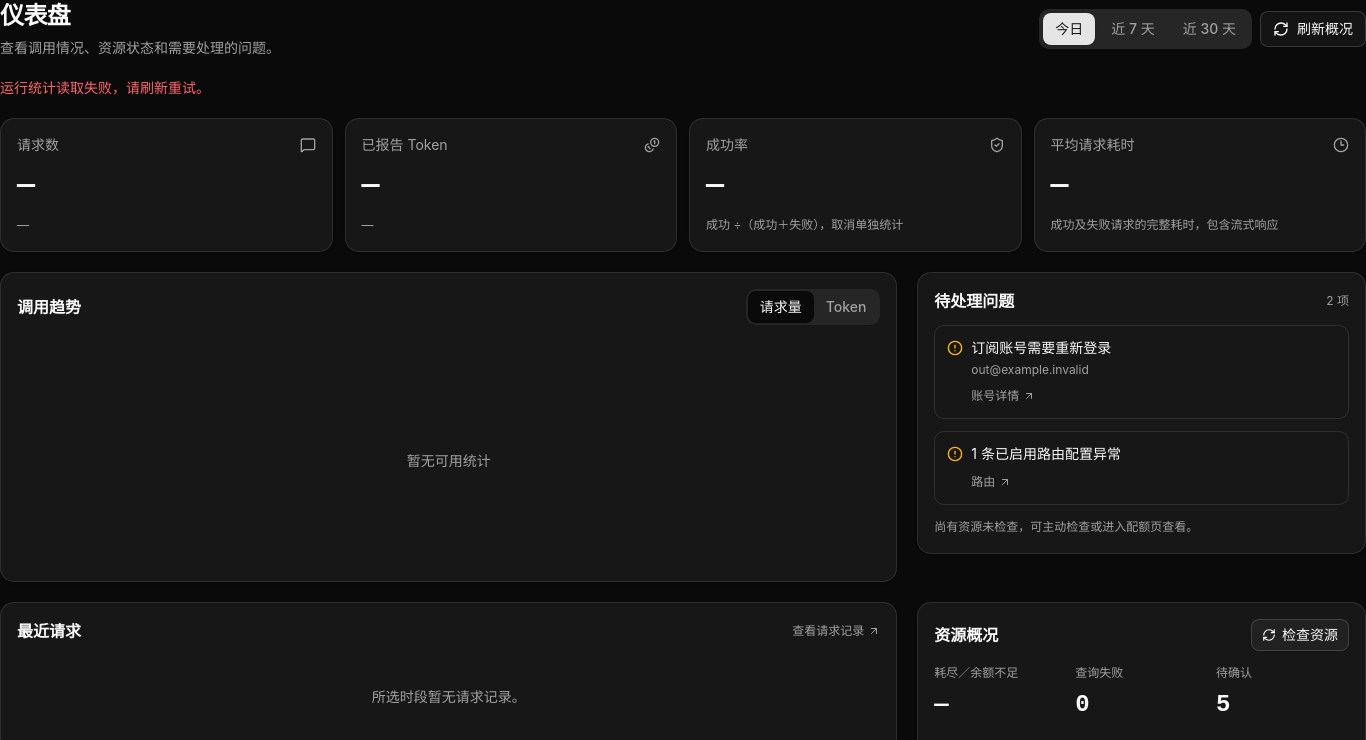
Test: dashboard overview › shows safe statistics failures and supports a local retry without checking resources
Expected: the message shows "运行统计读取失败", [0,79,210,96]
What coordinates should you click on to do the following:
click the button "刷新概况"
I would click on:
 (1313, 29)
Its box is [1260,11,1365,47].
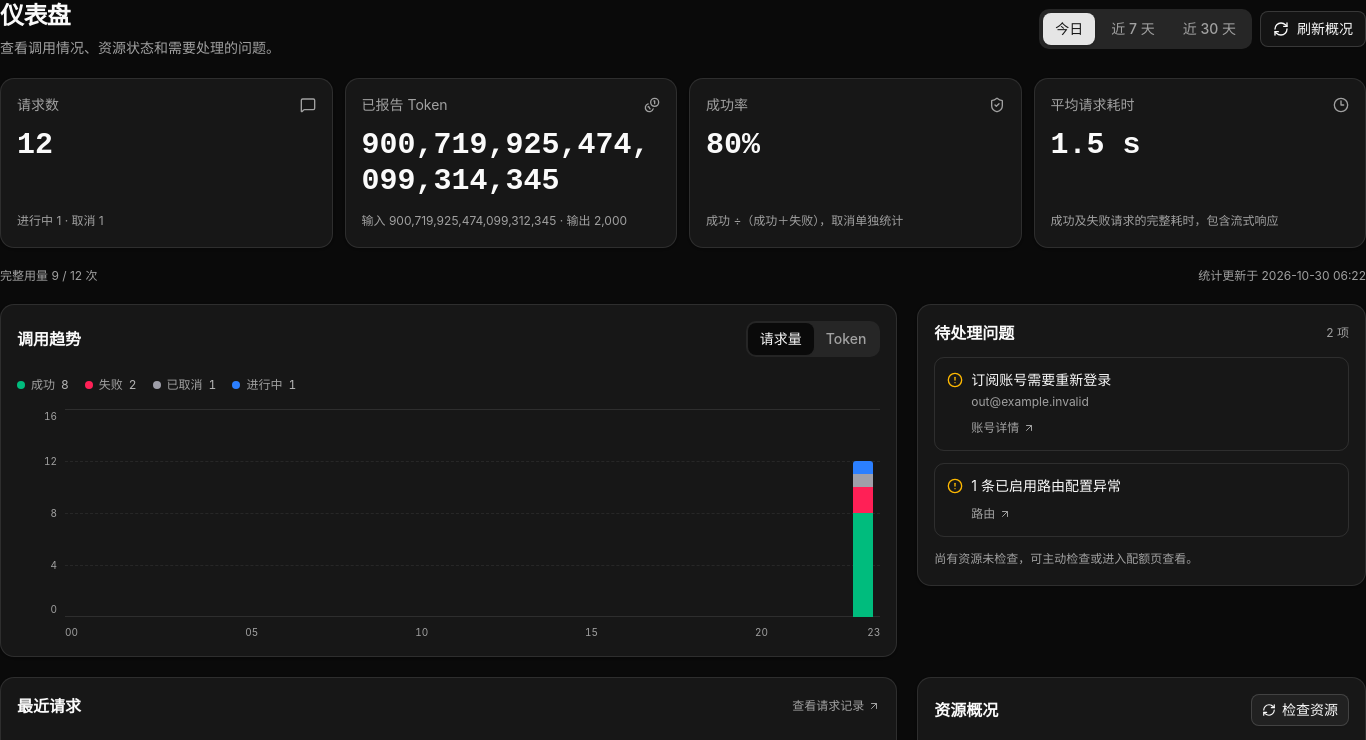
Expected: the text "80%" is shown, [706,128,760,162]
